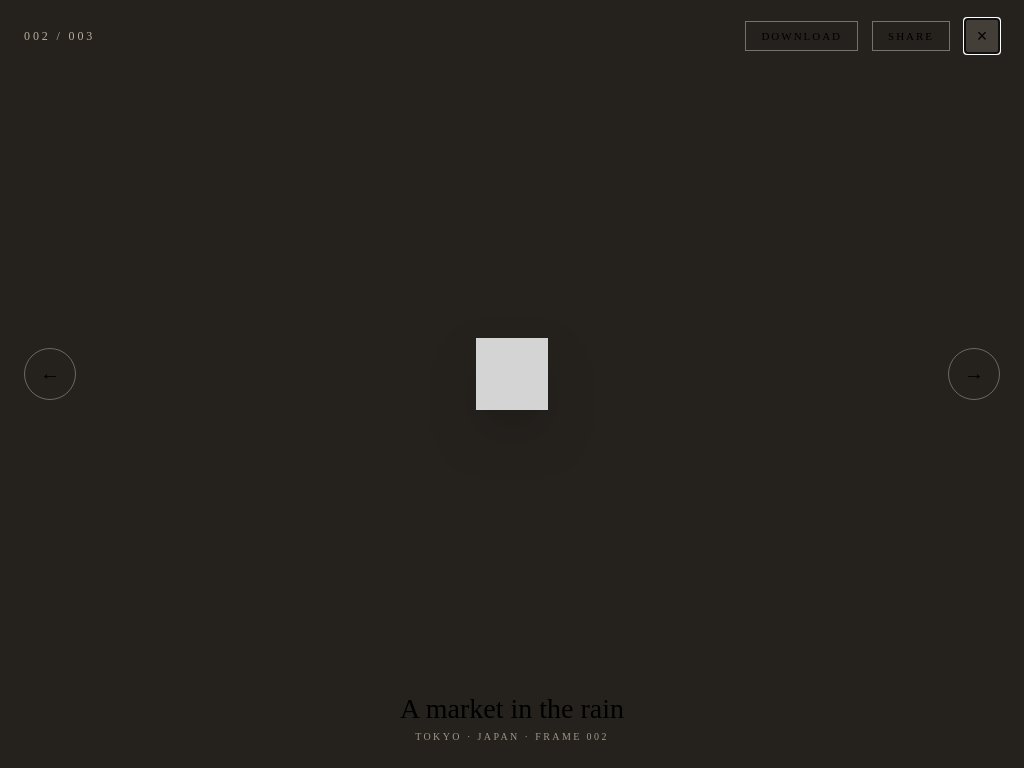
Test: Lightbox sharing › confirms a copy with a toast, since a clipboard write is otherwise invisible
What coordinates should you click on to do the following:
click the button "Share"
I would click on:
 (911, 36)
Its box is [872, 21, 950, 51].
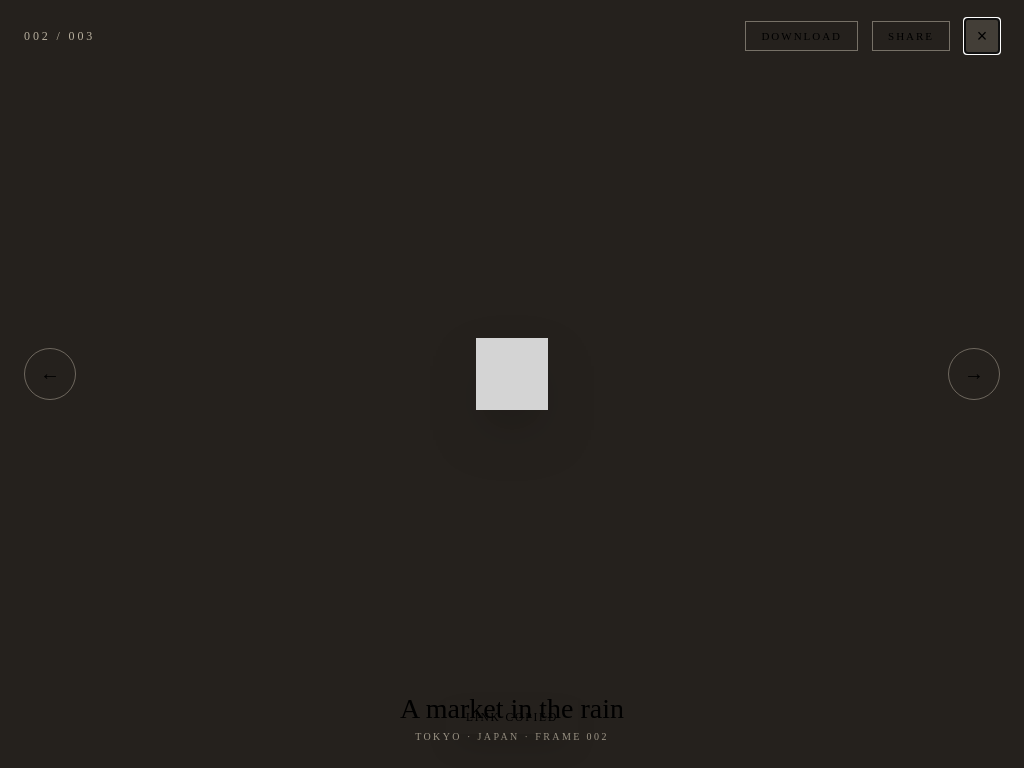
Expected: the message "Link copied" is shown, [446, 700, 578, 734]
